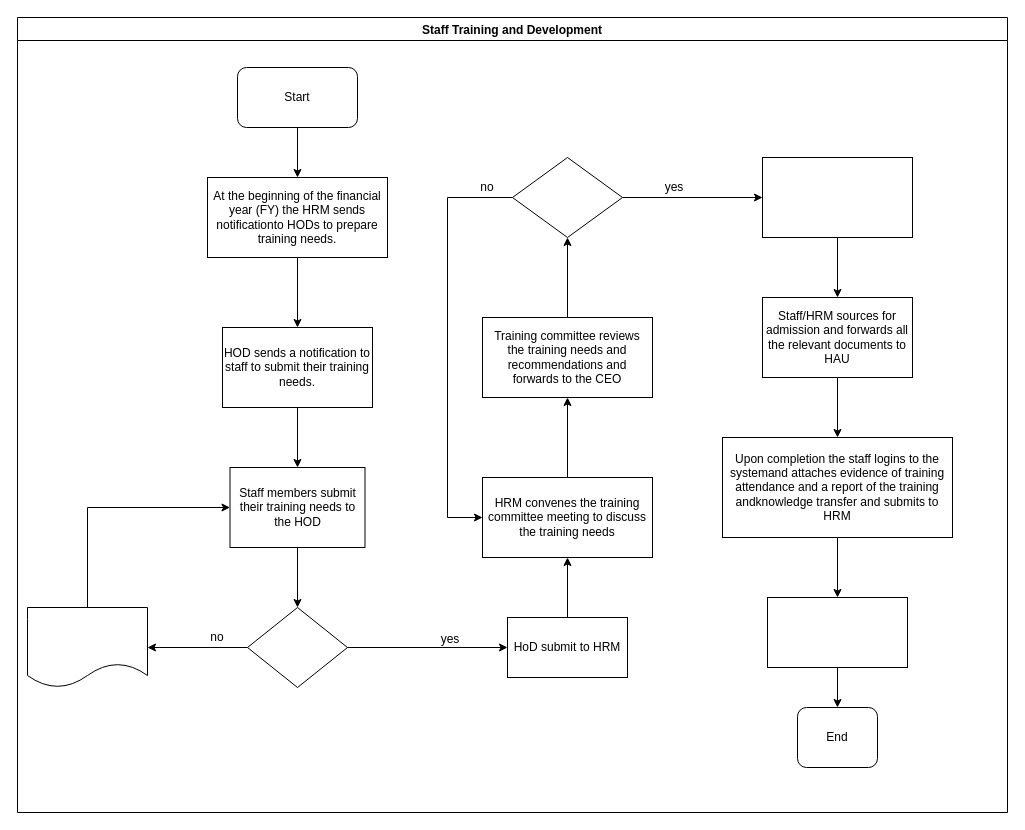
Some shapes in this 1025 by 830 pixel diagram are drawn without their labels. The centre of each missing label's shape, as x and y in pixels:
"Approved by CEO?" goes at (x=567, y=197).
"Approved by HoD" goes at (x=297, y=647).
"Comments" goes at (x=87, y=647).
"HRM shares the approved trainings to the HODs for onward communication to staff" goes at (x=837, y=197).
"HRM validate and closes the record" goes at (x=837, y=632).
